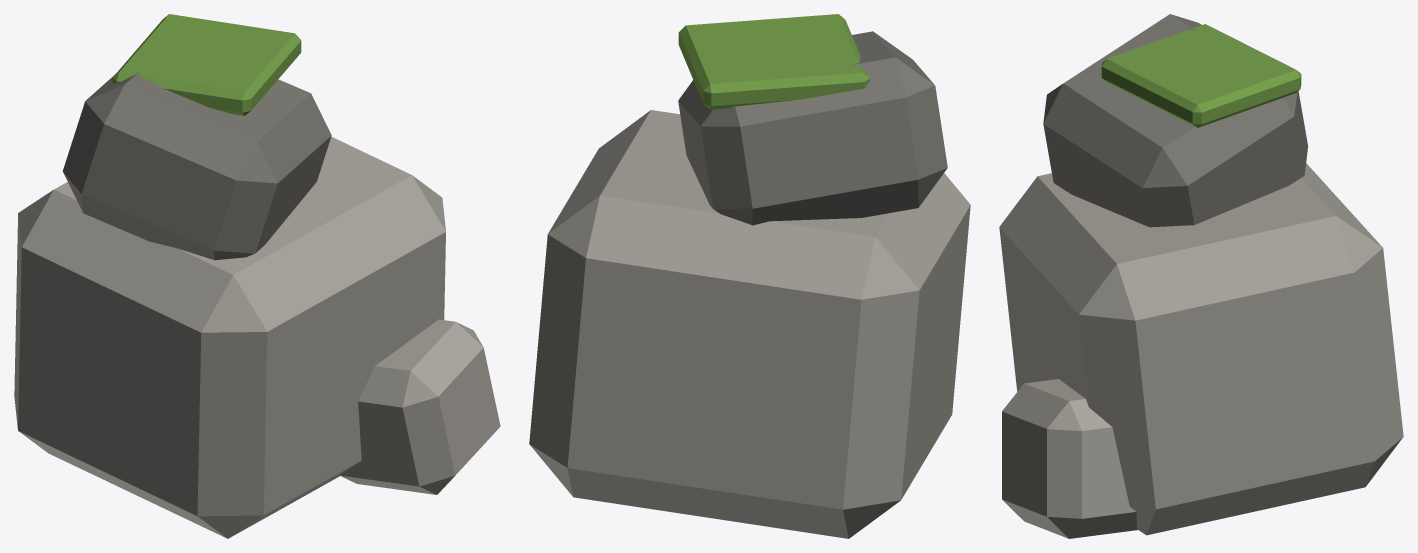
Rendered from stone.glb.
The picture shows the model from 3 angles, left to right: view 1: azimuth 30°, elevation 25°; view 2: azimuth 150°, elevation 25°; view 3: azimuth 270°, elevation 25°; orthographic projection. The views are drawn at different scales.
Parts seen in each view (by area): view 1: stone; view 2: stone; view 3: stone.
Boxes of the visible parts, x1,y1,x2,y2 form: stone: (14, 14, 500, 538); stone: (529, 14, 970, 538); stone: (999, 14, 1403, 538).
Bounding box in the file's own units: 0.6606 × 0.7038 × 0.6283.
